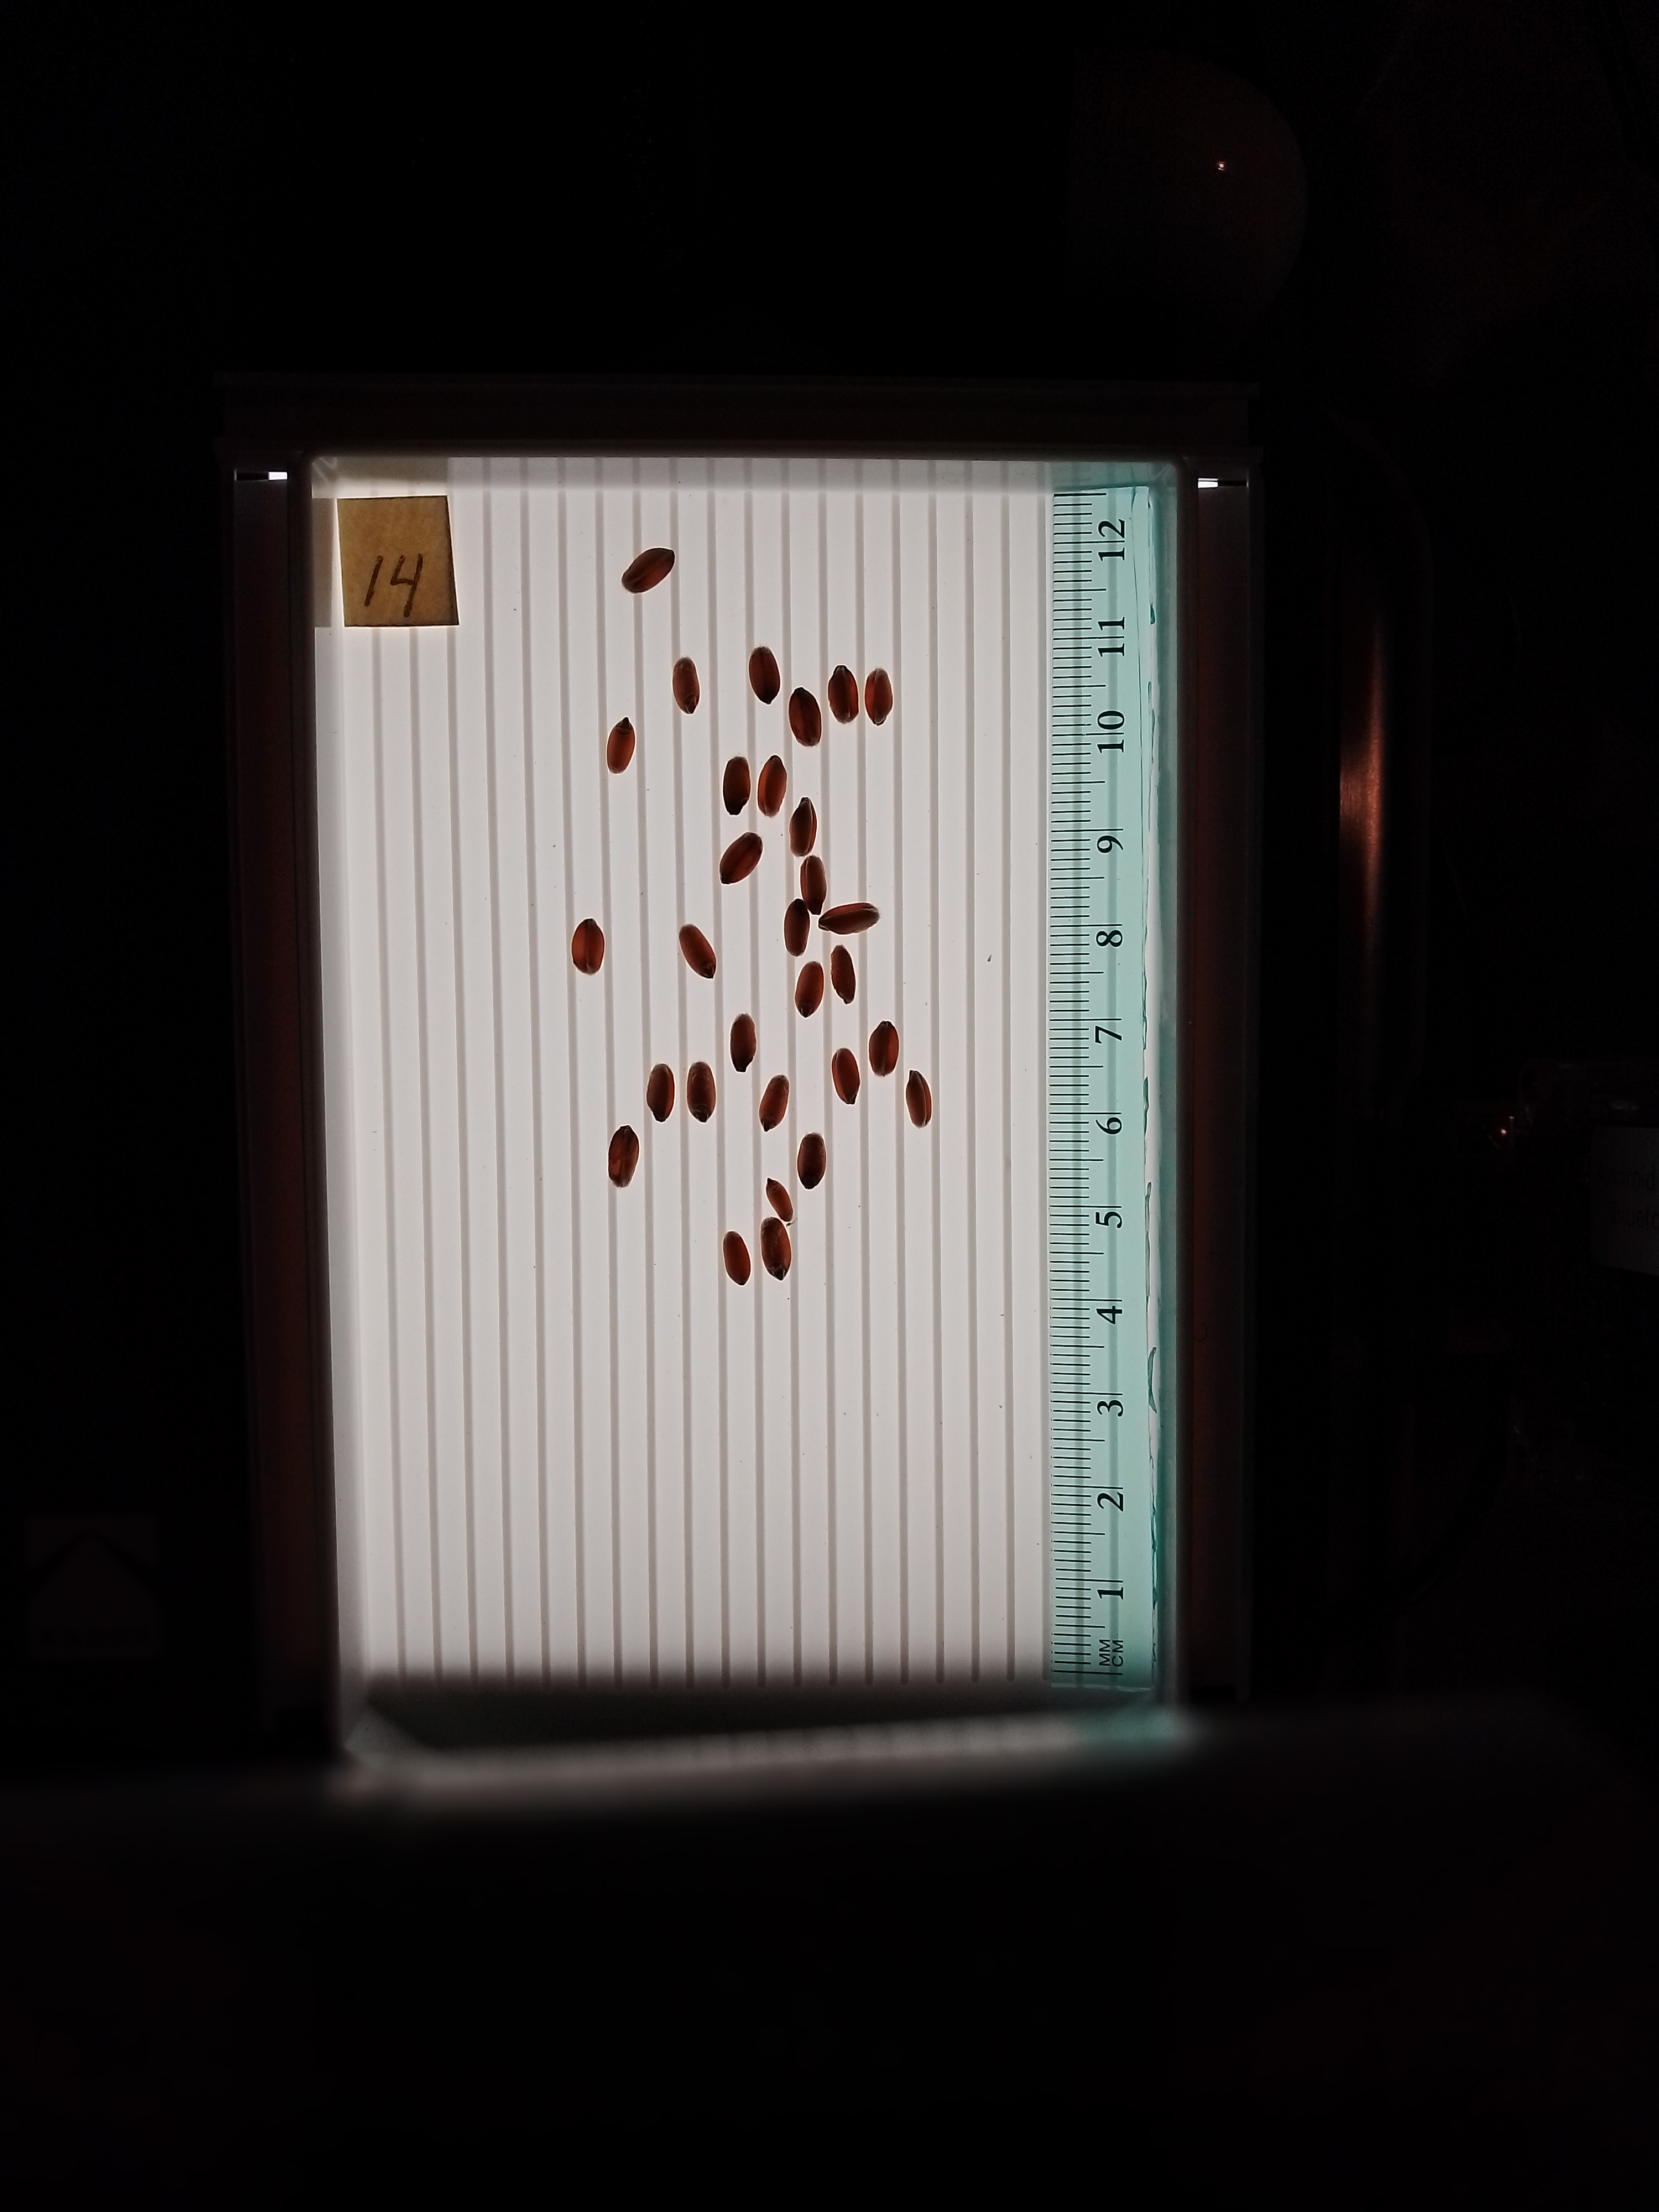seed mask: (620, 547, 676, 594), (718, 831, 763, 885), (678, 923, 716, 981), (760, 1216, 791, 1282), (788, 688, 823, 747), (570, 916, 605, 975), (756, 754, 788, 819), (748, 644, 781, 705), (828, 664, 861, 725), (817, 902, 880, 934), (608, 1125, 640, 1186), (863, 667, 894, 726), (868, 1019, 899, 1078), (723, 756, 753, 817), (788, 796, 817, 857), (687, 1062, 716, 1123), (669, 658, 701, 716), (721, 1230, 753, 1287), (758, 1075, 789, 1132), (728, 1012, 756, 1075), (831, 1049, 861, 1106), (647, 1064, 676, 1122), (800, 855, 828, 916), (605, 719, 636, 773), (904, 1069, 932, 1129), (795, 961, 823, 1019), (798, 1134, 826, 1190), (830, 946, 856, 1005), (784, 899, 810, 956), (765, 1177, 795, 1223)
